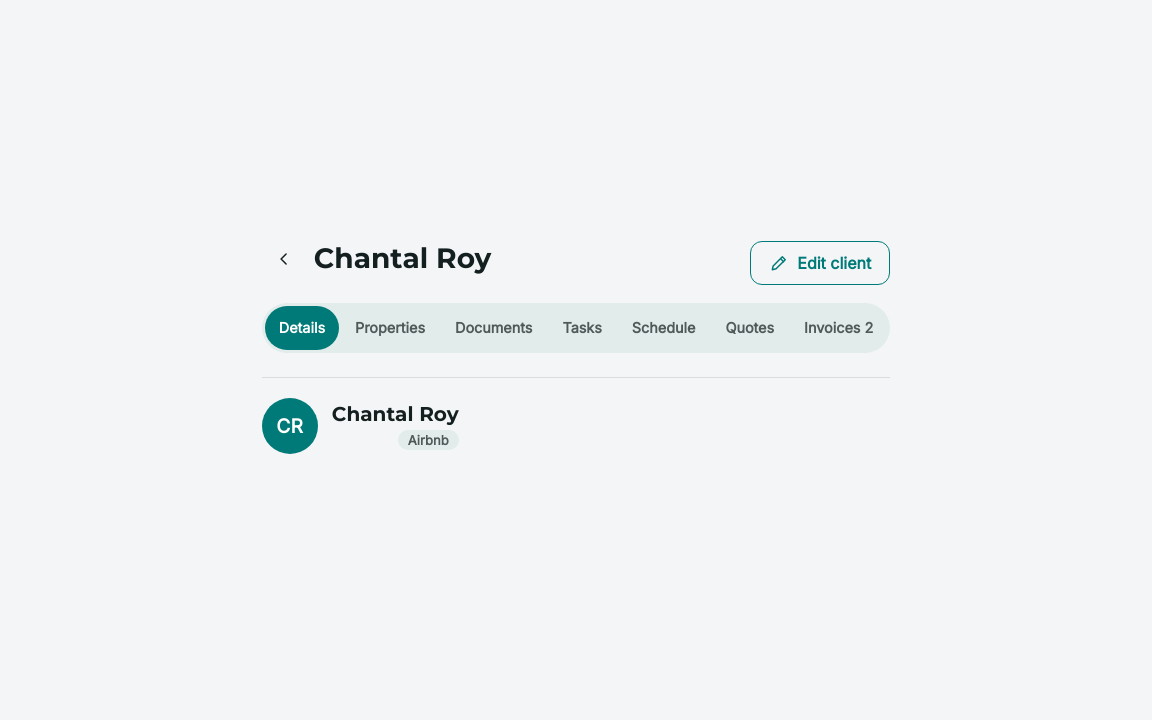
it: the invoices of a client › lists them on the client page and opens the bill dialog from there
Click the radio button labelled "Invoices 2" at (839, 328), box [790, 306, 887, 350]
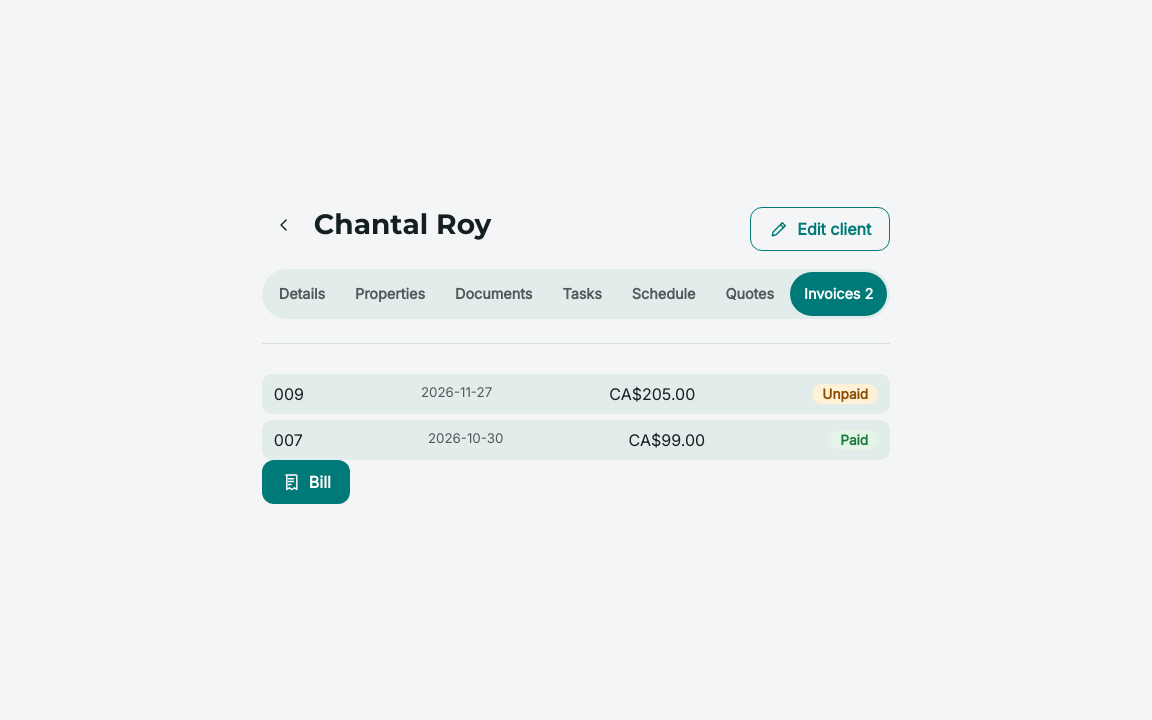
expect the list item "009 2026-11-27 CA$205.00 Unpaid" is shown: met, box [262, 374, 890, 414]
expect the list item "007 2026-10-30 CA$99.00 Paid" is shown: met, box [262, 420, 890, 460]
Click the button "Bill" at (306, 482), box [262, 460, 350, 504]
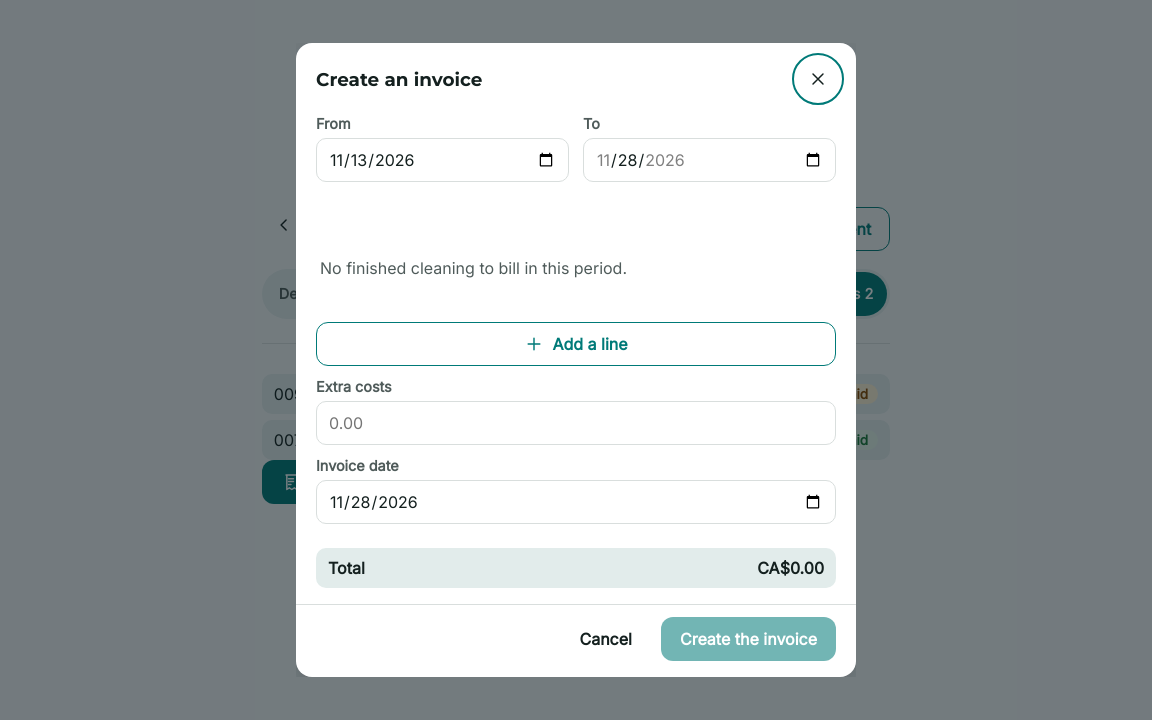
expect the text "No finished cleaning to bill in this period." is shown: met, box [320, 258, 627, 278]
